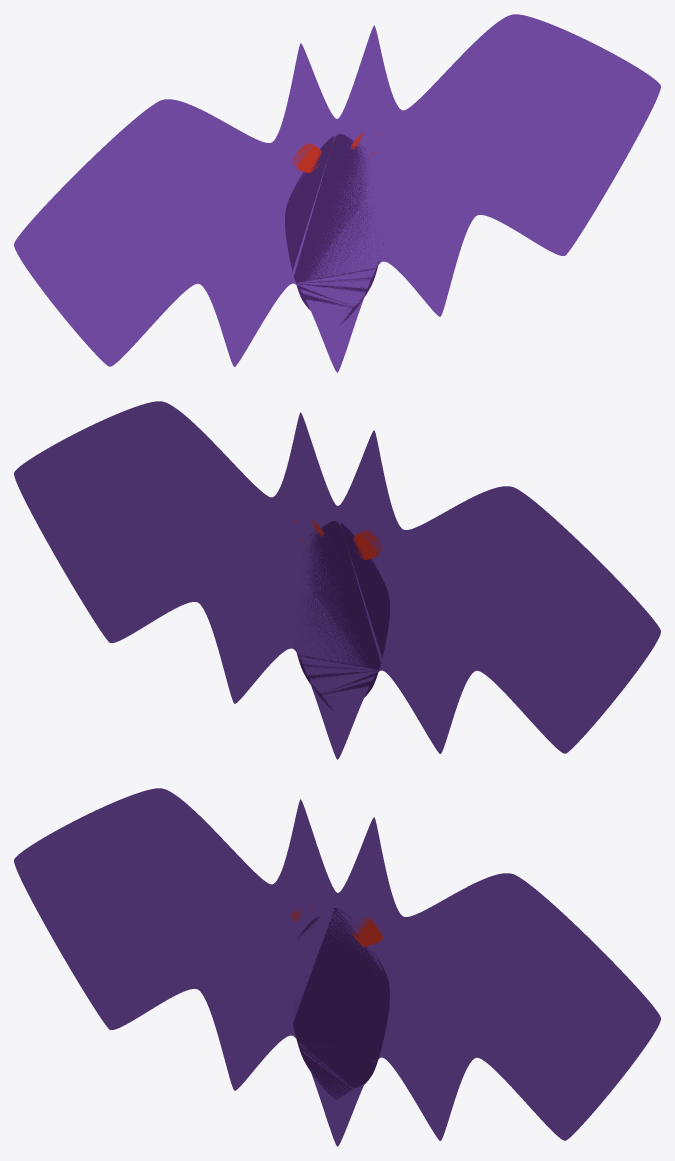
File: pipistrello.obj
3 renders of one model, top to bottom at view 1: azimuth 30°, elevation 25°; view 2: azimuth 150°, elevation 25°; view 3: azimuth 330°, elevation 25°, orthographic.
Parts seen in each view (by area): view 1: Curva_1, Curva_2, Curva_3; view 2: Curva_1, Curva_2, Curva_3; view 3: Curva_1, Curva_2, Curva_4.
Part boxes in pixels (box(x1,y1,x2,y2)): Curva_1: box(14, 14, 660, 372); Curva_2: box(285, 134, 389, 325); Curva_3: box(292, 143, 321, 172); Curva_1: box(14, 401, 660, 759); Curva_2: box(285, 521, 389, 712); Curva_3: box(353, 530, 382, 559); Curva_1: box(14, 788, 660, 1146); Curva_2: box(292, 908, 389, 1099); Curva_4: box(352, 917, 382, 947).
Bounding box in the file's own units: 0.88 × 0.44 × 0.
